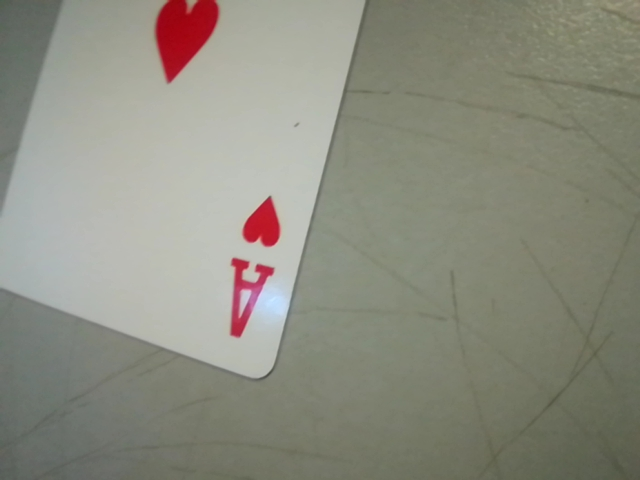hx a: (213, 177, 291, 357)
